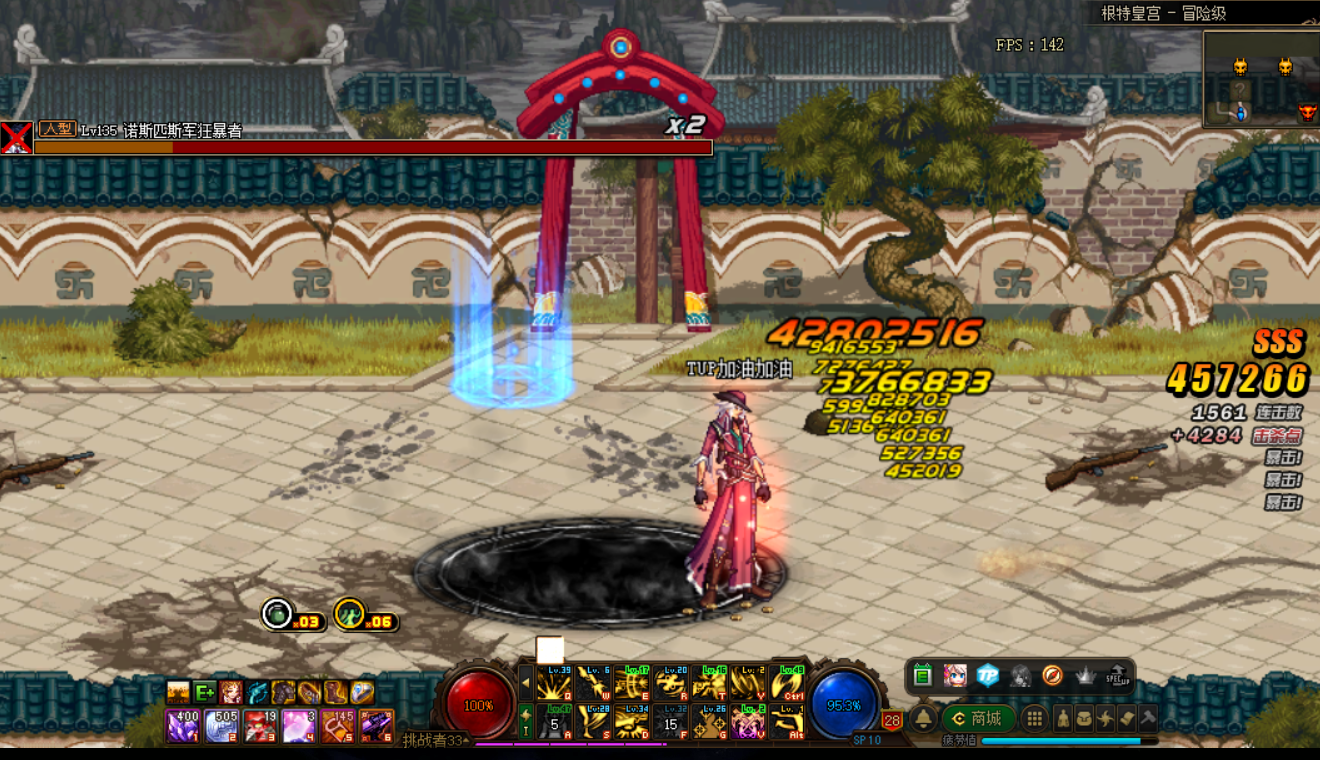warrior: (681, 380, 779, 608)
